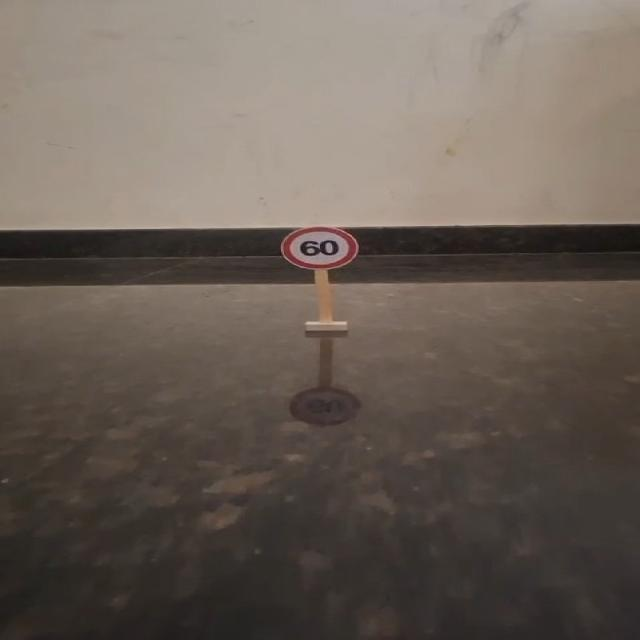Speed60: (274, 220, 364, 276)
